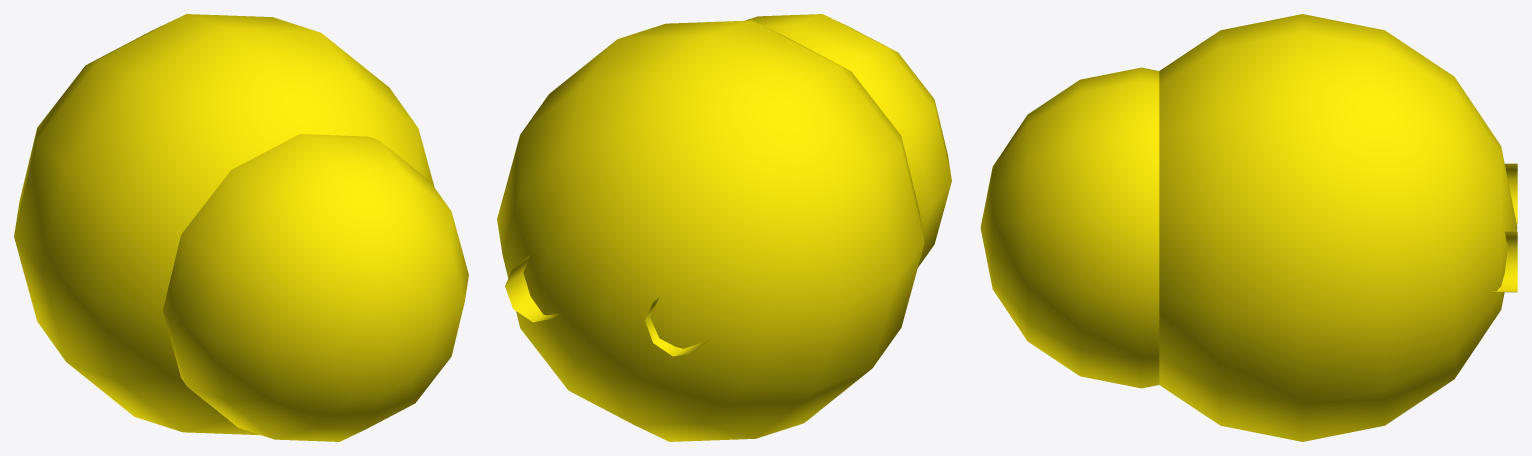
The model's file is w2_gold.glb.
3 views of the same model, side by side, from view 1: azimuth 30°, elevation 25°; view 2: azimuth 150°, elevation 25°; view 3: azimuth 270°, elevation 25° (orthographic).
Visible parts, largest first — view 1: Greater Bilby; view 2: Greater Bilby; view 3: Greater Bilby.
Boxes of the visible parts, x1,y1,x2,y2 form: Greater Bilby: (14, 14, 468, 441); Greater Bilby: (497, 14, 951, 441); Greater Bilby: (980, 14, 1517, 441).
Size of the model in its own units: 1.08 by 1.08 by 1.35.
